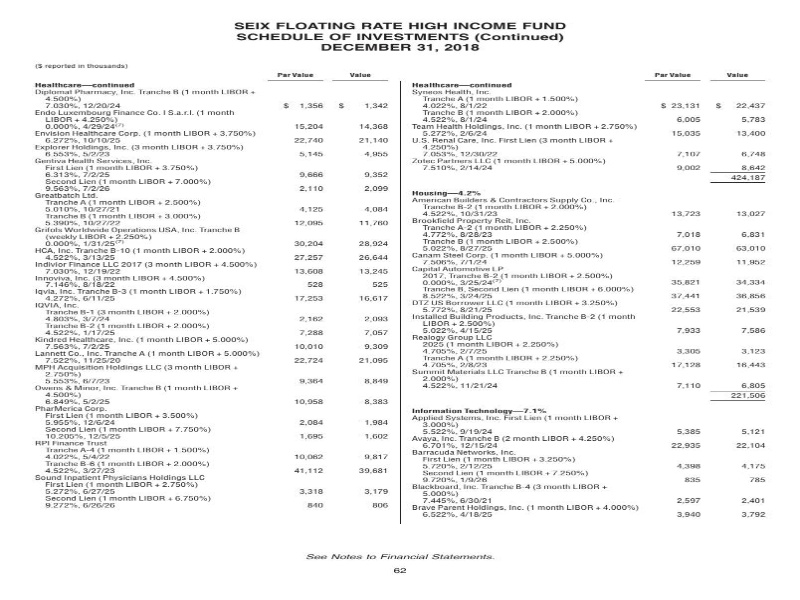table: (18, 56, 407, 542), (391, 65, 788, 535)
